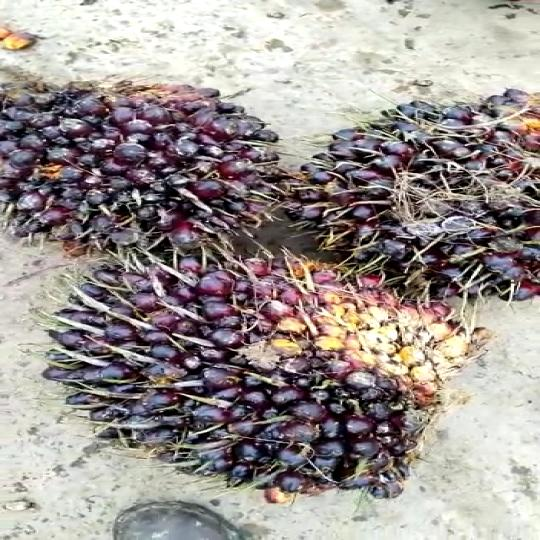kurang masak: (52, 242, 467, 505), (0, 66, 287, 241), (297, 95, 540, 298)
